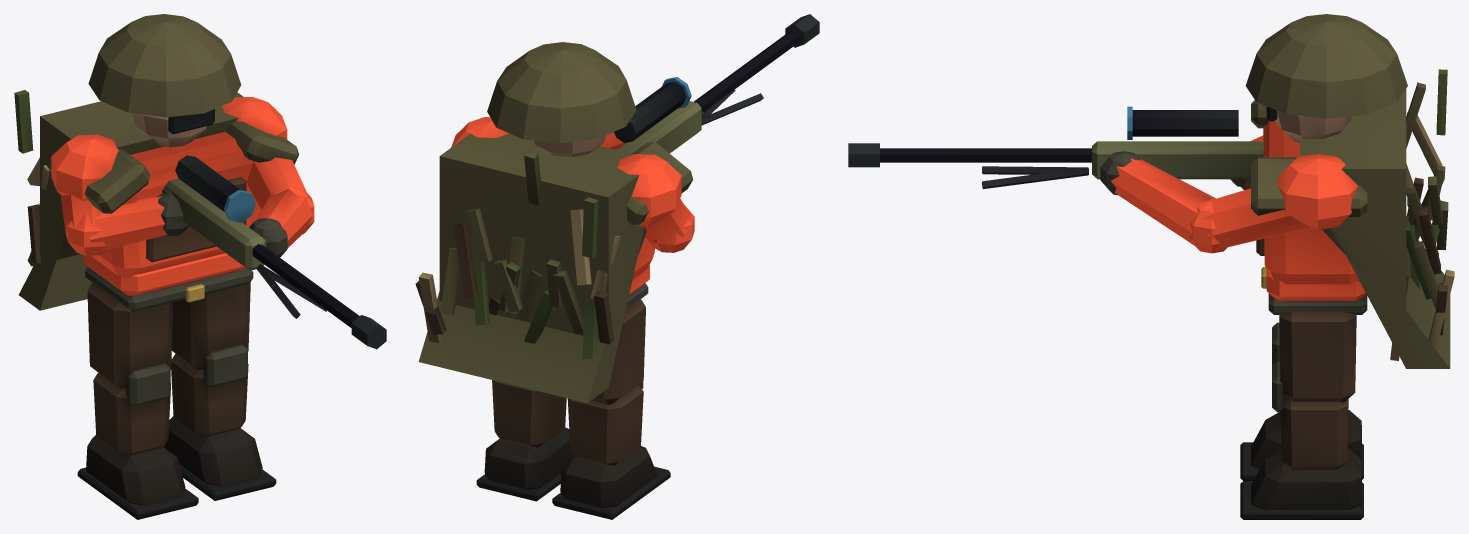
The model's file is marksman.glb.
3 renders of one model, left to right at view 1: azimuth 30°, elevation 25°; view 2: azimuth 150°, elevation 25°; view 3: azimuth 270°, elevation 25°, orthographic. The views are drawn at different scales.
Parts seen in each view (by area): view 1: geo_torso, geo_leg_right, geo_leg_left, geo_arm_right, geo_arm_left; view 2: geo_torso, geo_leg_right, geo_leg_left, geo_arm_right; view 3: geo_torso, geo_leg_left, geo_arm_left, geo_leg_right.
Boxes of the visible parts, x1,y1,x2,y2 form: geo_torso: [14, 14, 386, 349]; geo_leg_right: [77, 283, 198, 519]; geo_leg_left: [163, 282, 276, 500]; geo_arm_right: [60, 193, 188, 255]; geo_arm_left: [247, 157, 314, 257]; geo_torso: [415, 14, 819, 403]; geo_leg_right: [552, 299, 670, 519]; geo_leg_left: [476, 380, 574, 501]; geo_arm_right: [645, 199, 694, 252]; geo_torso: [848, 14, 1454, 368]; geo_leg_left: [1240, 311, 1363, 519]; geo_arm_left: [1100, 151, 1310, 253]; geo_leg_right: [1240, 322, 1363, 480].
Bounding box in the file's own units: 1.53 × 2.9 × 3.43.
